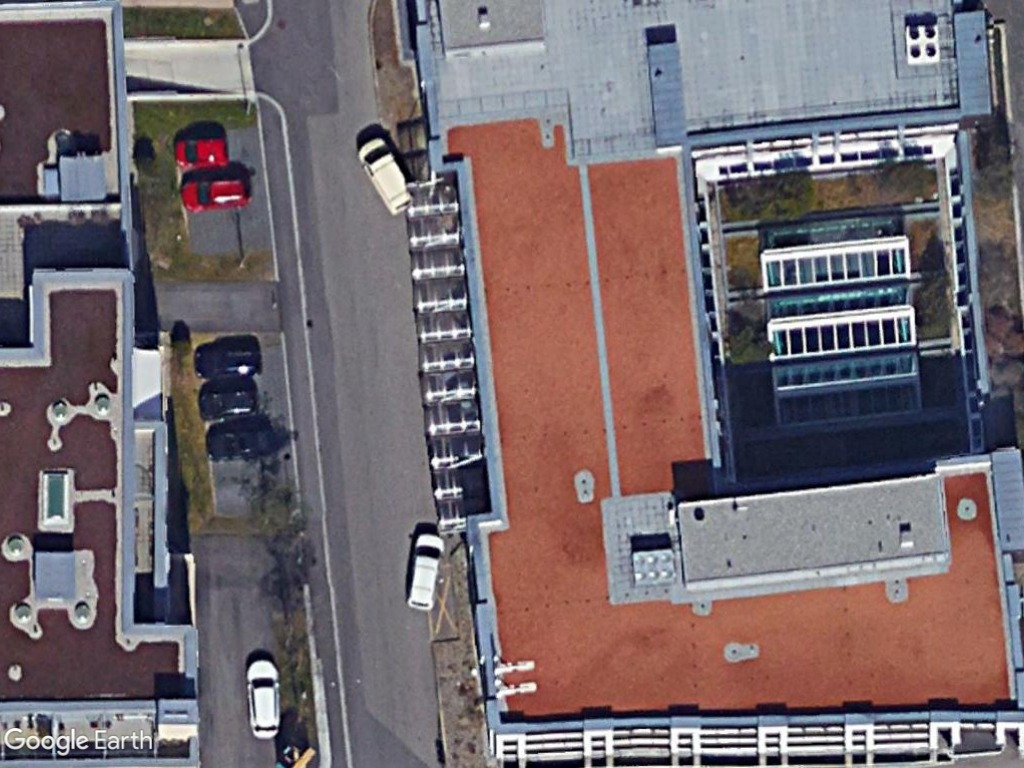car: (246, 656, 286, 742), (180, 173, 251, 216), (173, 137, 233, 172)
van: (356, 134, 415, 214), (404, 530, 446, 612)
